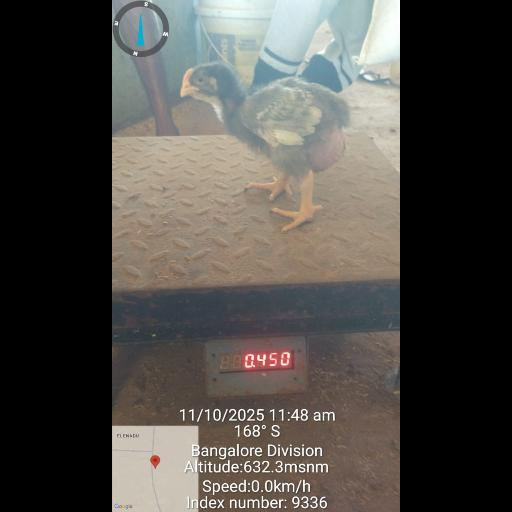chick: (182, 63, 351, 232)
